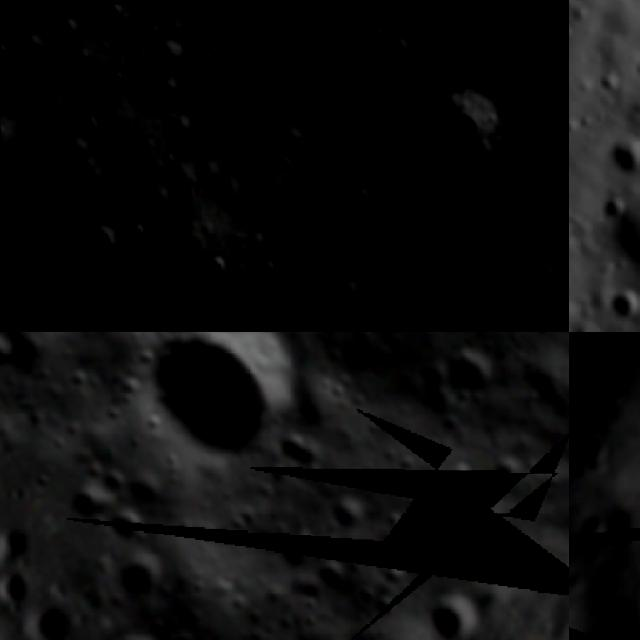crater: (103, 332, 332, 494), (52, 201, 156, 303), (413, 96, 502, 194), (422, 337, 508, 425), (99, 538, 184, 615), (356, 16, 430, 80), (312, 484, 381, 548), (93, 497, 157, 559), (511, 245, 569, 309), (476, 443, 536, 496), (56, 475, 111, 532), (235, 70, 290, 123), (88, 459, 139, 508), (416, 589, 470, 632), (241, 0, 330, 23), (579, 422, 619, 471), (0, 332, 27, 396), (284, 312, 369, 332), (112, 615, 178, 640), (605, 133, 640, 179), (569, 339, 603, 382), (612, 284, 640, 330), (17, 463, 38, 498)
